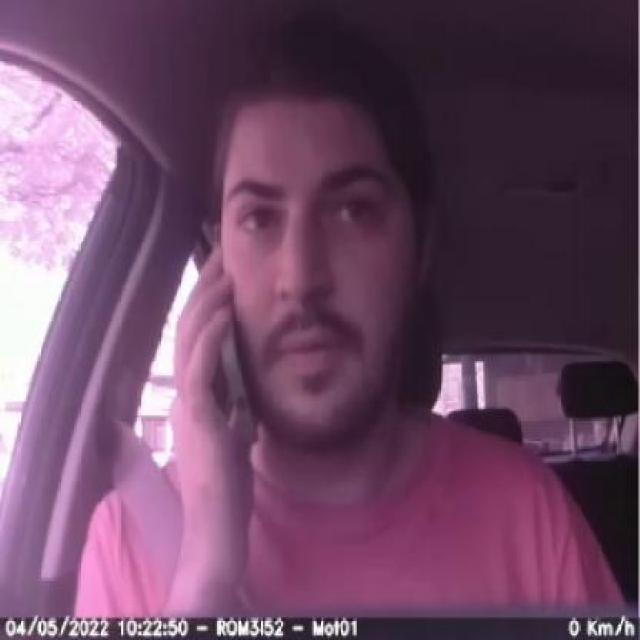using_phone: (141, 189, 291, 490)
